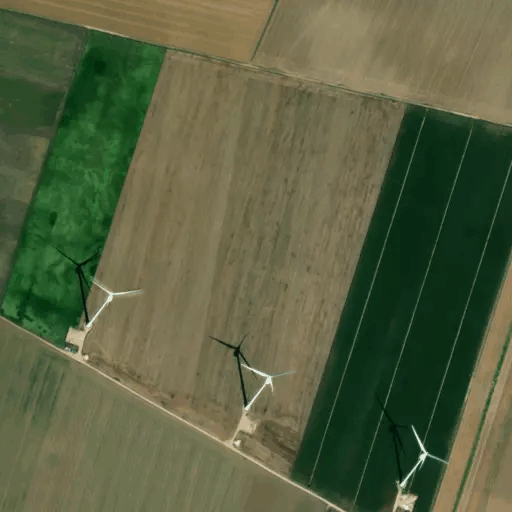wt: (202, 328, 302, 420), (370, 388, 454, 497), (50, 243, 146, 335)
